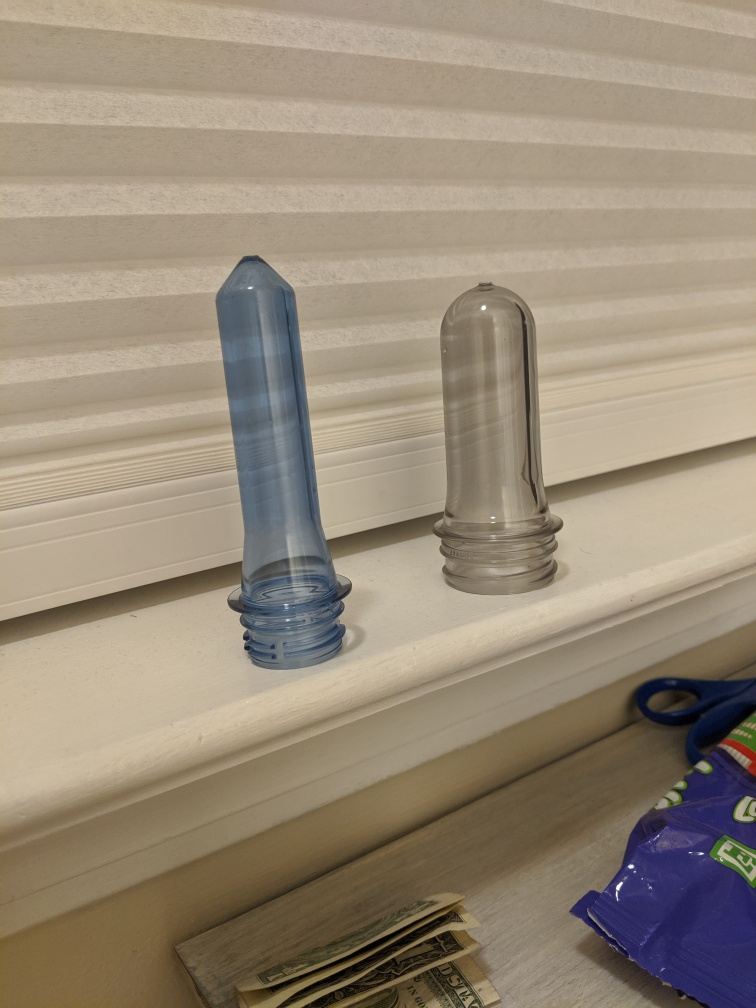preform: (208, 240, 361, 675), (421, 268, 580, 605)
